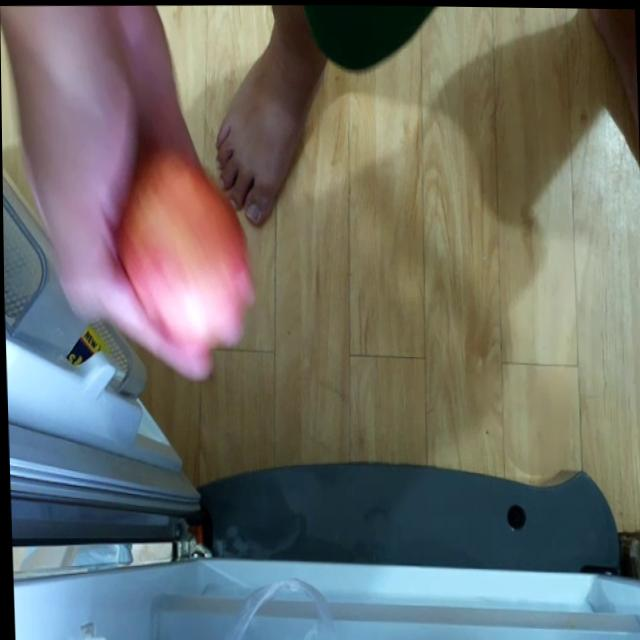apple: (112, 149, 259, 343)
